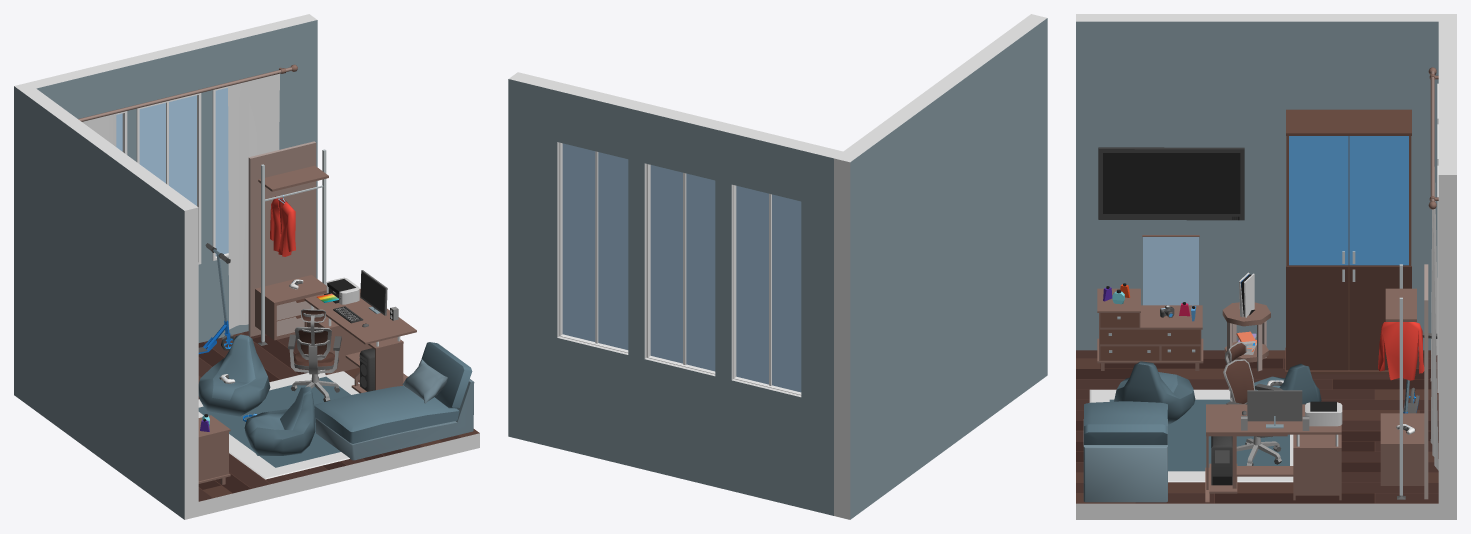
The model's file is room_15.glb.
3 views of the same model, side by side, from view 1: azimuth 30°, elevation 25°; view 2: azimuth 150°, elevation 25°; view 3: azimuth 270°, elevation 25° (orthographic). The views are drawn at different scales.
Parts seen in each view (by area): view 1: Walls_116.014, shelf_040.001, bed_014.001, Walls_116.017, window_001.002, Curtains_020.003, office_table_011.002, Walls_116.015, carpet_004.005, floor_016.003, Walls_056.004, office_chair_022.003 (+10 smaller); view 2: Walls_116.014, window_001.002, Walls_116.016, Walls_116.015, Walls_116.017, Walls_116.013, Walls_116.018, Walls_116.019; view 3: Walls_116.014, closet_022.001, floor_016.003, electronics_027.004, shelf_038.001, office_table_011.002, bed_014.001, shelf_040.001, Walls_056.004, Walls_116.015, carpet_004.005, office_chair_022.004 (+10 smaller).
Part boxes in pixels (left/top/right/bottom): Walls_116.014: left=14, top=82, right=198, bottom=519; shelf_040.001: left=248, top=141, right=328, bottom=345; bed_014.001: left=314, top=342, right=474, bottom=460; Walls_116.017: left=56, top=24, right=275, bottom=118; window_001.002: left=116, top=86, right=228, bottom=264; Curtains_020.003: left=228, top=73, right=279, bottom=329; office_table_011.002: left=304, top=270, right=416, bottom=393; Walls_116.015: left=267, top=14, right=317, bottom=278; carpet_004.005: left=198, top=370, right=359, bottom=479; floor_016.003: left=198, top=331, right=479, bottom=501; Walls_056.004: left=198, top=333, right=479, bottom=516; office_chair_022.003: left=198, top=334, right=270, bottom=416; Walls_116.014: left=834, top=14, right=1047, bottom=519; window_001.002: left=559, top=142, right=801, bottom=395; Walls_116.016: left=557, top=336, right=801, bottom=507; Walls_116.015: left=508, top=72, right=566, bottom=448; Walls_116.017: left=557, top=84, right=810, bottom=201; Walls_116.013: left=801, top=143, right=842, bottom=515; Walls_116.018: left=628, top=159, right=646, bottom=358; Walls_116.019: left=715, top=180, right=733, bottom=380; Walls_116.014: left=1076, top=14, right=1456, bottom=350; closet_022.001: left=1285, top=109, right=1411, bottom=374; floor_016.003: left=1076, top=350, right=1438, bottom=503; electronics_027.004: left=1098, top=147, right=1244, bottom=220; shelf_038.001: left=1097, top=235, right=1203, bottom=370; office_table_011.002: left=1205, top=390, right=1341, bottom=502; bed_014.001: left=1083, top=401, right=1167, bottom=502; shelf_040.001: left=1378, top=264, right=1428, bottom=499; Walls_056.004: left=1076, top=358, right=1438, bottom=519; Walls_116.015: left=1438, top=152, right=1456, bottom=519; carpet_004.005: left=1089, top=389, right=1293, bottom=482; office_chair_022.004: left=1114, top=361, right=1195, bottom=424.
Size of the model in its own units: 4.2 by 4.2 by 4.2.
Materials: 1 (1 with a texture image).
